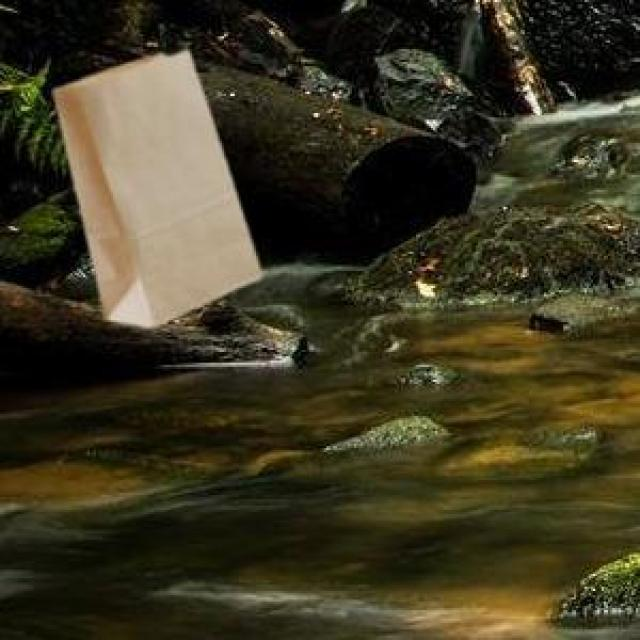Paper -Biodegradable-: (54, 47, 263, 332)
